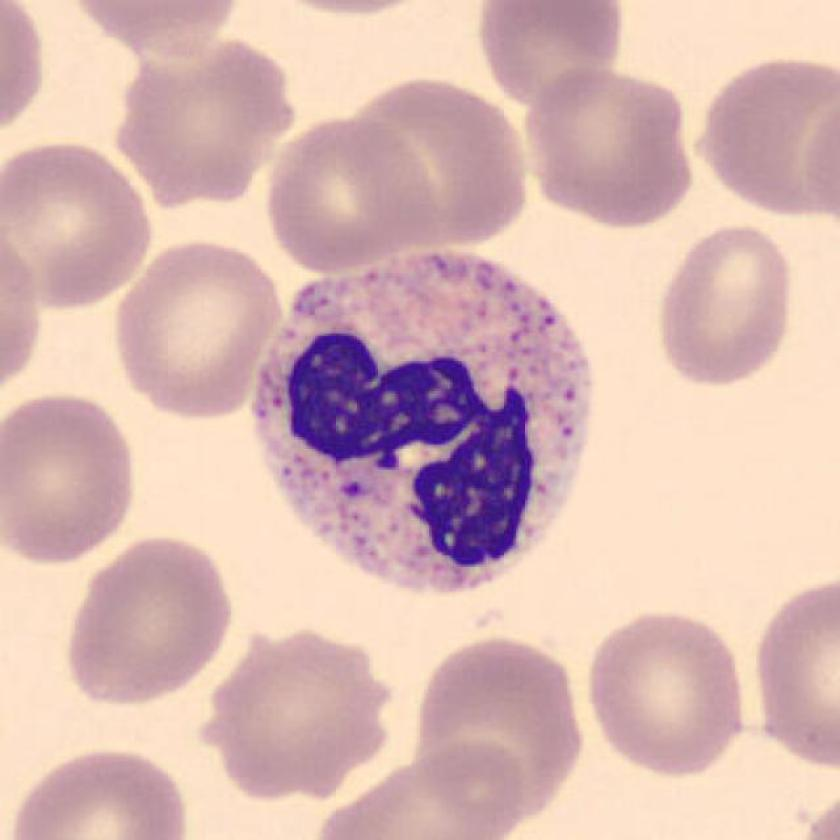neutrophil: (255, 255, 587, 596)
